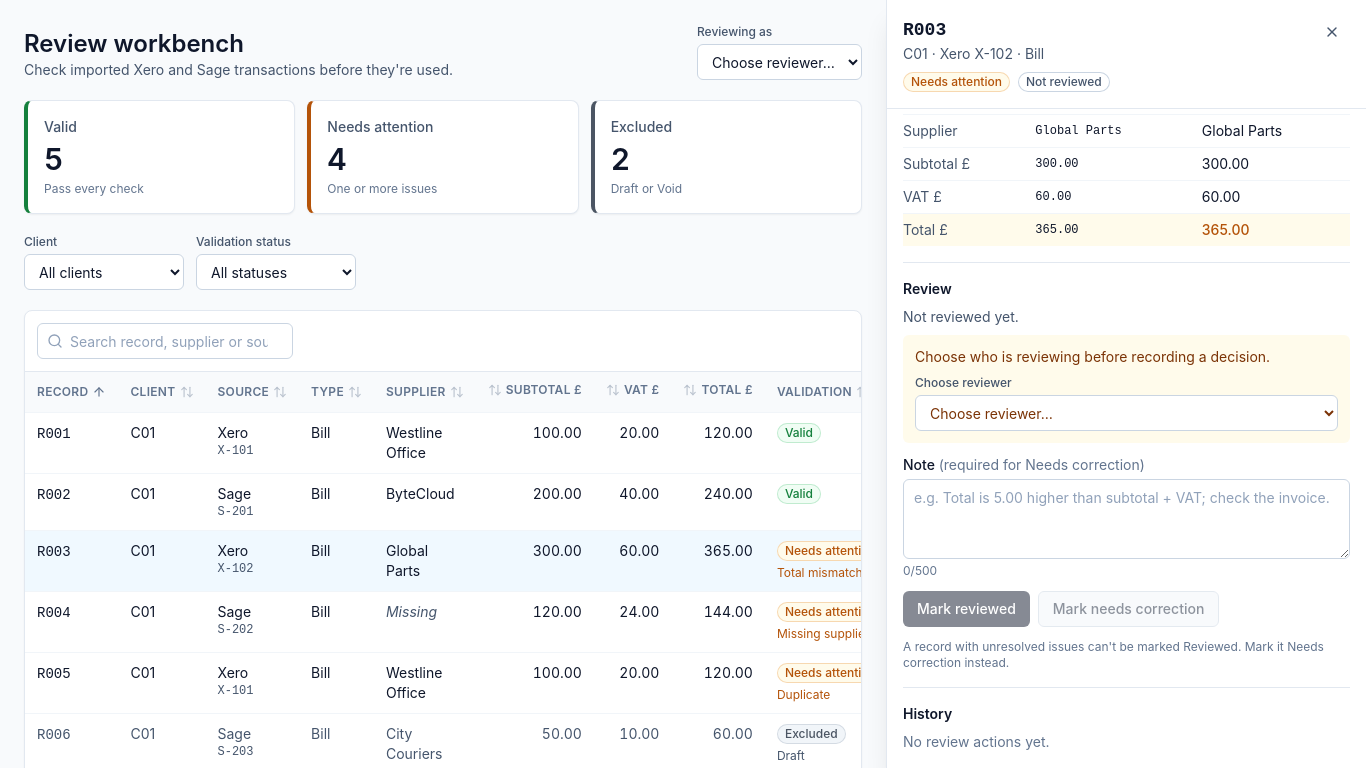
Test: Record detail panel › reviewing › lets the reviewer be chosen right in the panel, and keeps the header in sync
This screenshot has width=1366, height=768.
(page scrolled)
expect the text "R001" is shown: met, box [37,426,71,442]
expect the dropdown labelled "Reviewing as" is enabled: met, box [697,44,862,80]
Select "Shiela Plange" in the dropdown labelled "Choose reviewer": x=1126, y=413 [915,395,1338,431]
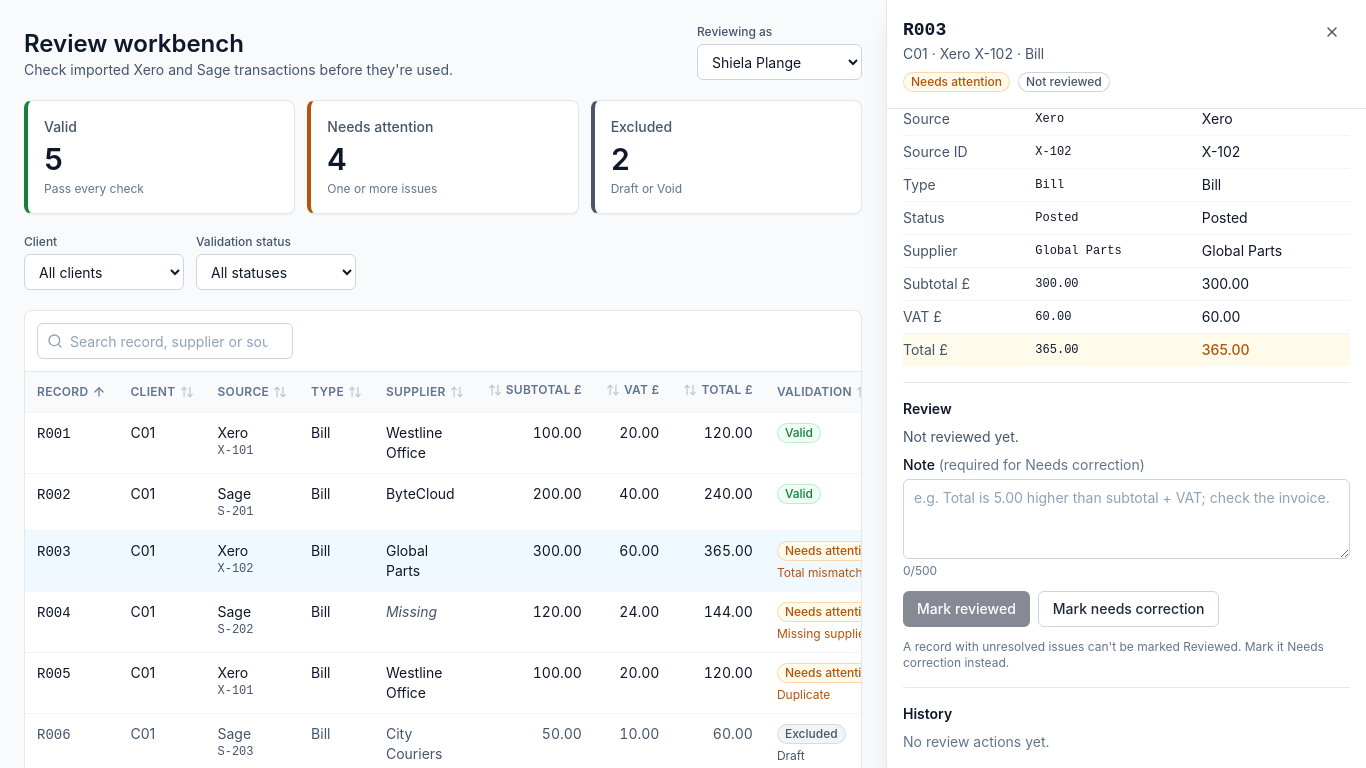
expect the button "Mark needs correction" is enabled: met, box [1038,591,1219,627]
expect the dropdown labelled "Reviewing as" shows "Shiela Plange": met, box [697,44,862,80]
expect the text "Choose who is reviewing" is gone: met
